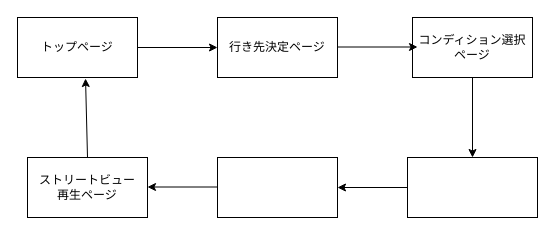
The diagram is 555 pixels wide and 235 high, and some of its shapes have lost their labels. The box of each missing label's shape, as (x1, y1, x2, y2) in pixels:
天気表示と推奨衣類と傘の有無表示ページ: (406, 156, 538, 218)
観光地選択画面: (216, 156, 338, 218)
